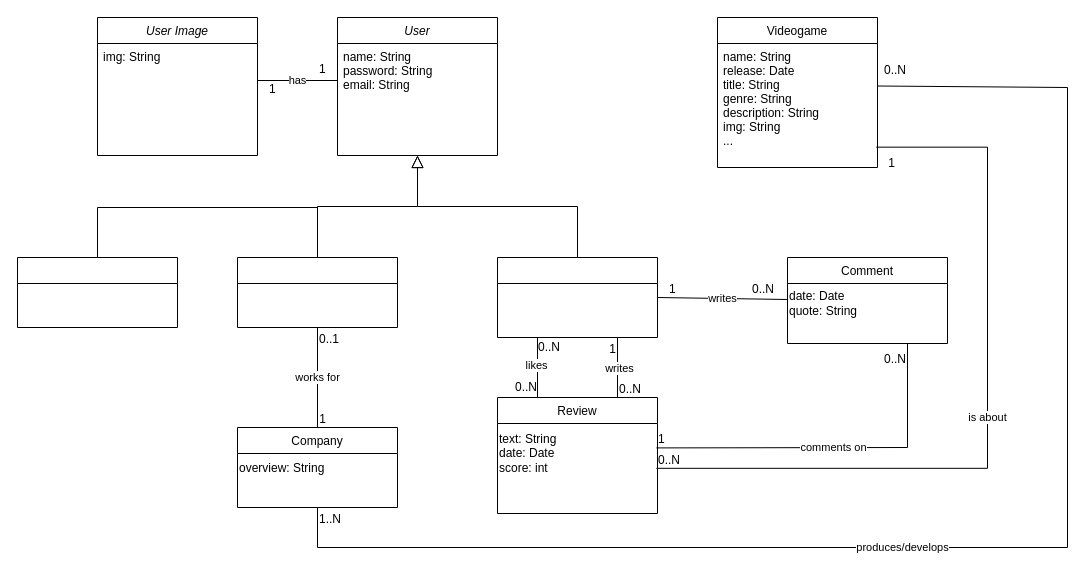
The diagram is 1086 pixels wide and 571 high, and some of its shapes have lost their labels. The shapes that lost their labels are listed below. From the top down, each one's centre as x and y in pixels, then its label:
[97,292]: Application Manager
[317,292]: Company Manager
[577,297]: Reviewer
